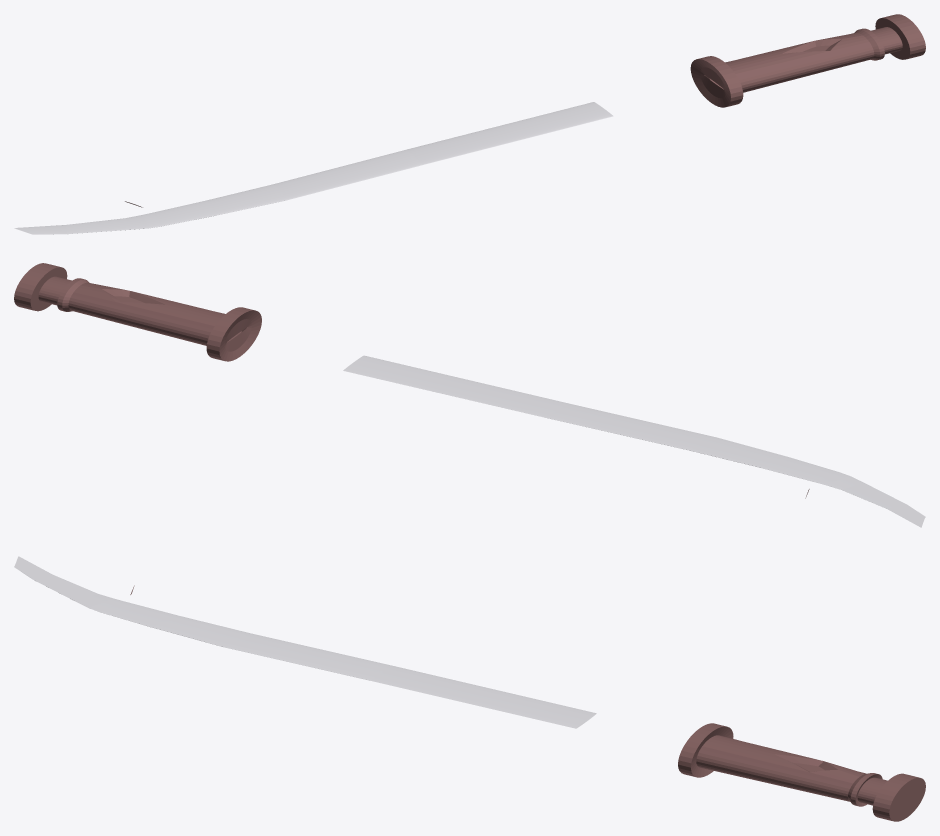
File: samurai.fbx
3 renders of one model, top to bottom at view 1: azimuth 30°, elevation 25°; view 2: azimuth 150°, elevation 25°; view 3: azimuth 330°, elevation 25°, orthographic. The views are drawn at different scales.
Parts seen in each view (by area): view 1: Cylinder.001, Cylinder; view 2: Cylinder.001, Cylinder; view 3: Cylinder.001, Cylinder.
Boxes of the visible parts, <box> form: Cylinder.001: <box>14,102,613,234</box>; Cylinder: <box>125,14,925,207</box>; Cylinder.001: <box>343,355,925,527</box>; Cylinder: <box>14,263,809,498</box>; Cylinder.001: <box>14,556,596,728</box>; Cylinder: <box>130,585,925,821</box>.
Bounding box in the file's own units: 588 × 25.01 × 53.64.
